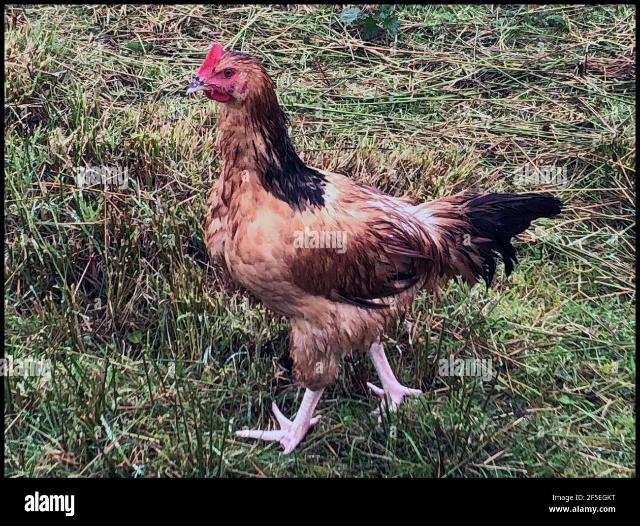Chicken: (183, 43, 564, 453)
